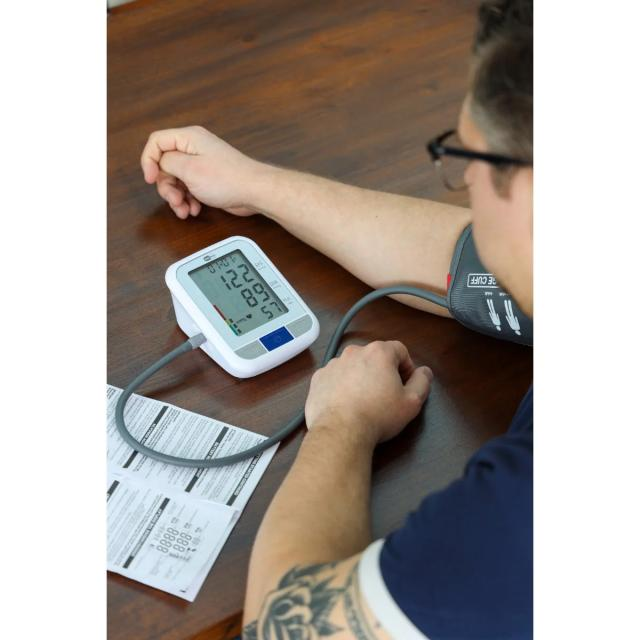dia: (236, 276, 275, 312)
pul: (256, 295, 287, 323)
ssd: (189, 239, 290, 346)
sys: (215, 257, 259, 295)
